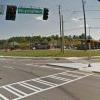Crosswalk: (4, 75, 91, 100)
